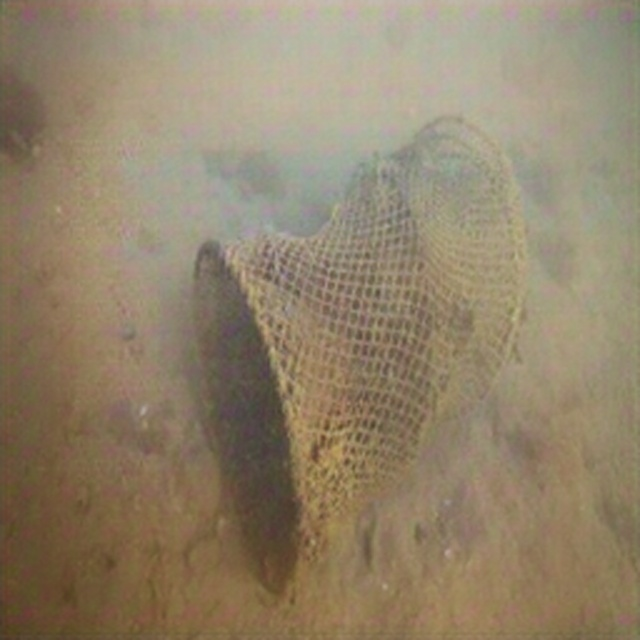mine: (191, 112, 530, 592)
